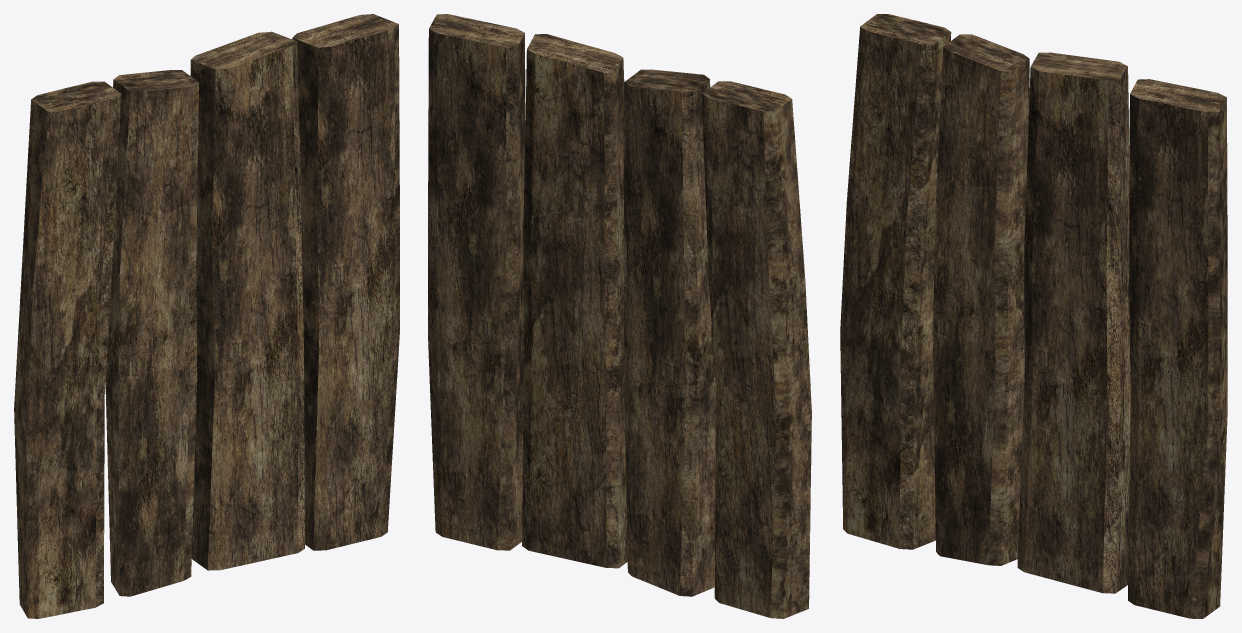
File: Legno002.FBX
The picture shows the model from 3 angles, left to right: view 1: azimuth 30°, elevation 25°; view 2: azimuth 150°, elevation 25°; view 3: azimuth 330°, elevation 25°; orthographic projection.
Visible parts, largest first — view 1: Legno002; view 2: Legno002; view 3: Legno002.
Part boxes in pixels (x1,y1,x2,y2): Legno002: (14, 14, 399, 618); Legno002: (428, 14, 811, 618); Legno002: (840, 14, 1227, 618).
Bounding box in the file's own units: 25.06 × 3.25 × 32.56.
